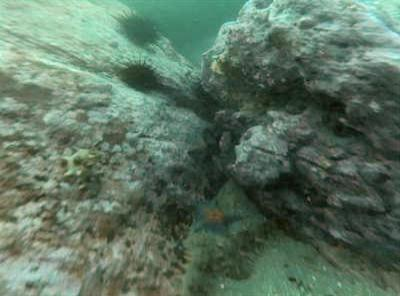urchin: (118, 7, 163, 50), (121, 57, 163, 94)
